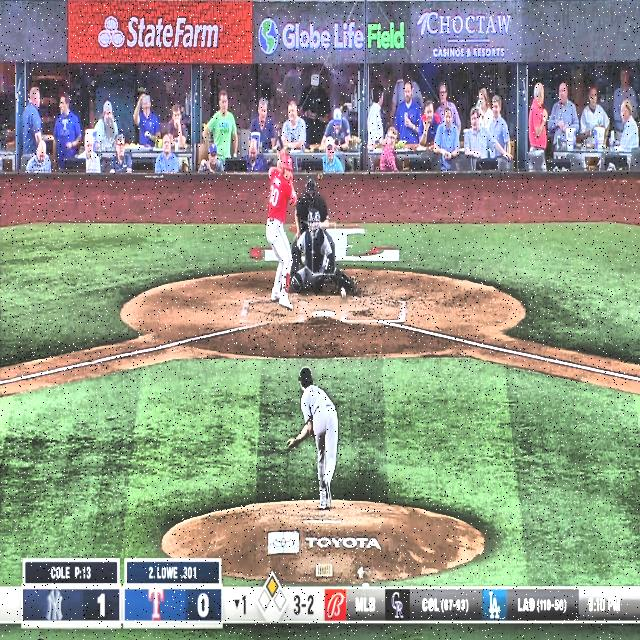baseball: (340, 286, 346, 298)
